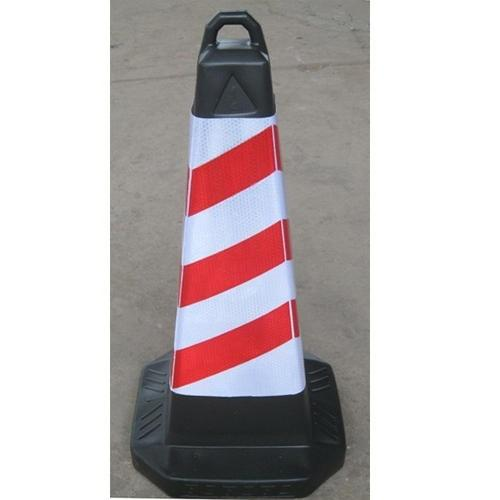cone_barrel: (124, 20, 342, 477)
